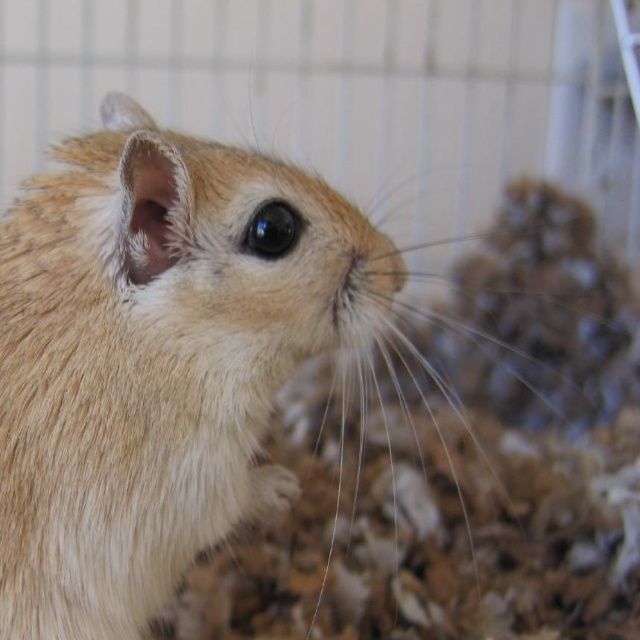Mouse: (0, 33, 640, 640)
